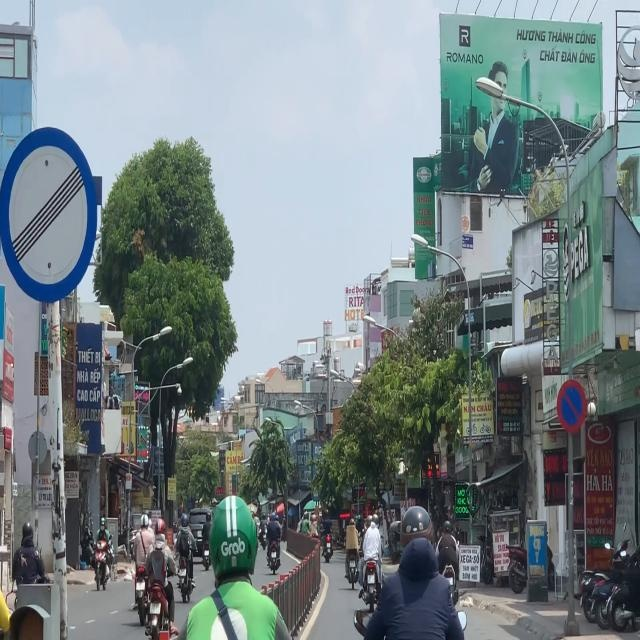bien_cam: (556, 379, 586, 433)
